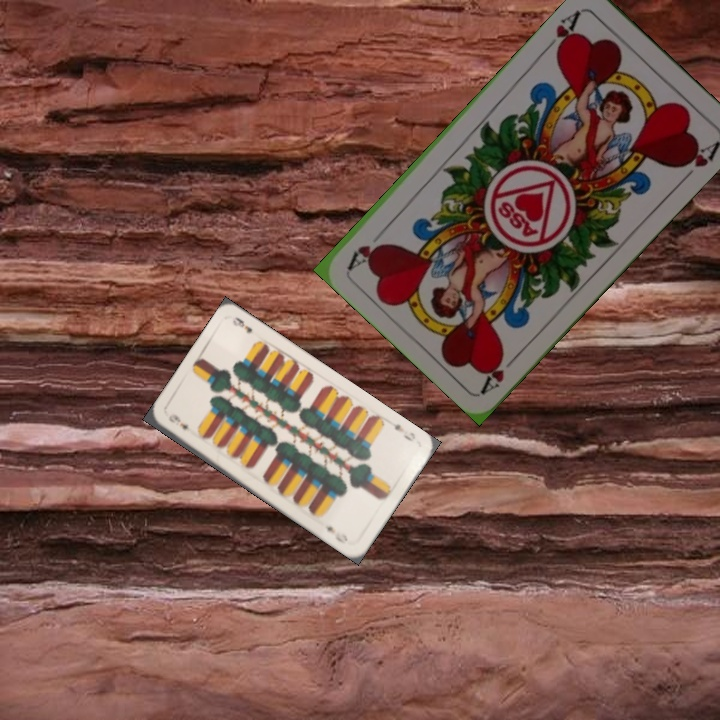E9: (385, 418, 418, 444), (164, 411, 192, 433)
HA: (540, 5, 584, 60), (478, 347, 524, 396)
